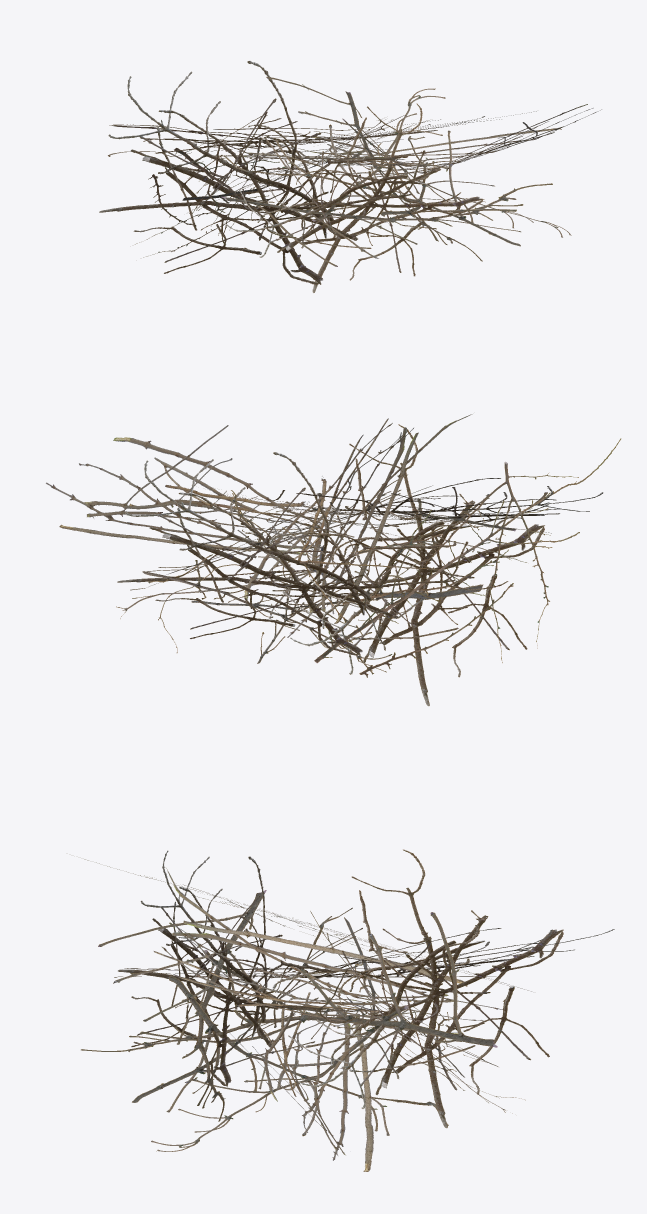
Rendered from PileOfTwigs1.fbx.
The picture shows the model from 3 angles, top to bottom: view 1: azimuth 30°, elevation 25°; view 2: azimuth 150°, elevation 25°; view 3: azimuth 270°, elevation 25°; orthographic projection. The views are drawn at different scales.
Visible parts, largest first — view 1: PileOfTwigs1; view 2: PileOfTwigs1; view 3: PileOfTwigs1.
Boxes of the visible parts, x1,y1,x2,y2 form: PileOfTwigs1: [99, 61, 601, 292]; PileOfTwigs1: [46, 414, 621, 706]; PileOfTwigs1: [81, 849, 614, 1171].
Size of the model in its own units: 359 by 116 by 326.
